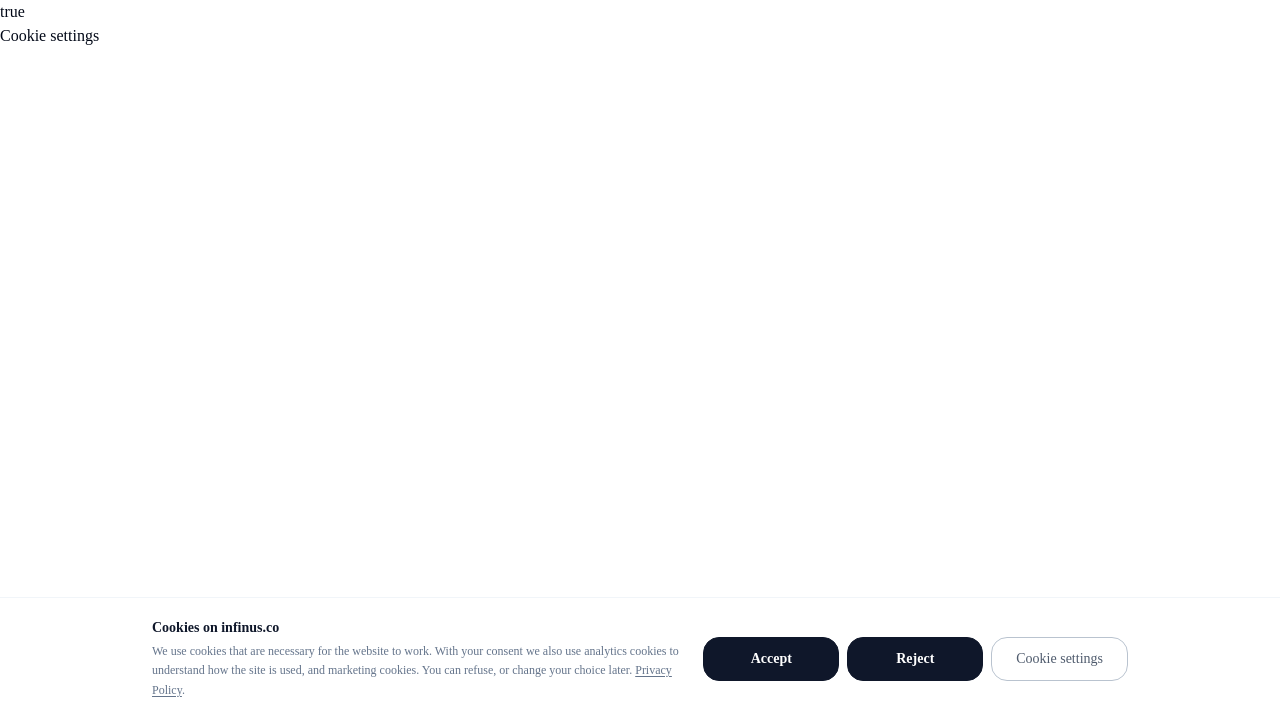
Test: custom settings › analytics and marketing start OFF — never pre-ticked
The image size is (1280, 720).
Expected: the dialog with test id "cookie-banner" is shown, 0,596 -> 1279,719
Click the button with test id "cookie-settings-open".
click(1060, 659)  # box 991,637 -> 1128,681
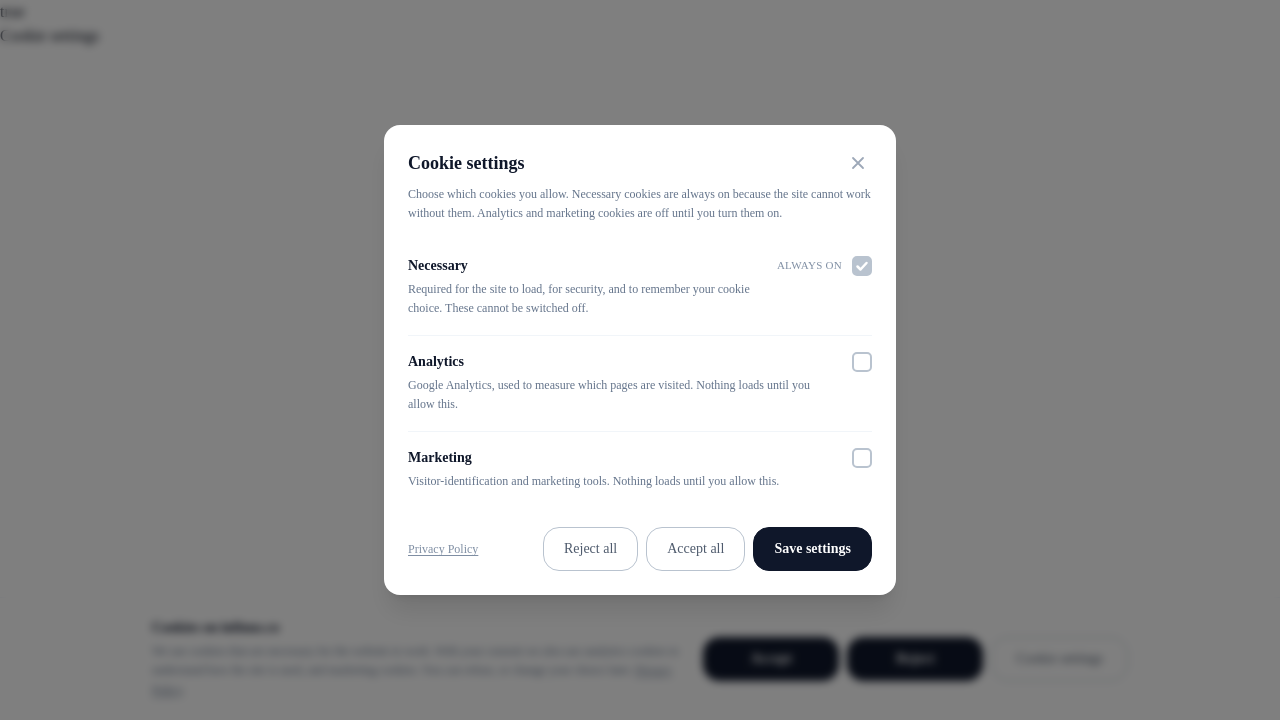
Expected: the checkbox labelled "Analytics" is not checked, 852,352 -> 872,372
Expected: the checkbox labelled "Marketing" is not checked, 852,448 -> 872,468
